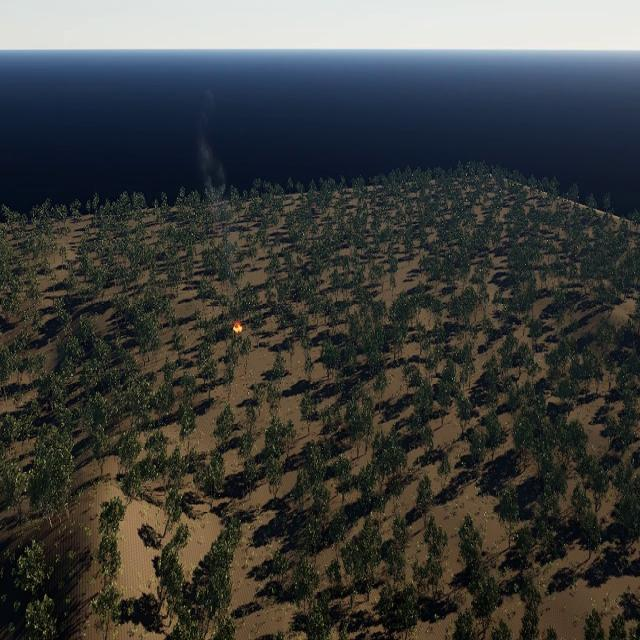fire: (234, 323, 243, 333)
smoke: (188, 83, 240, 267)
